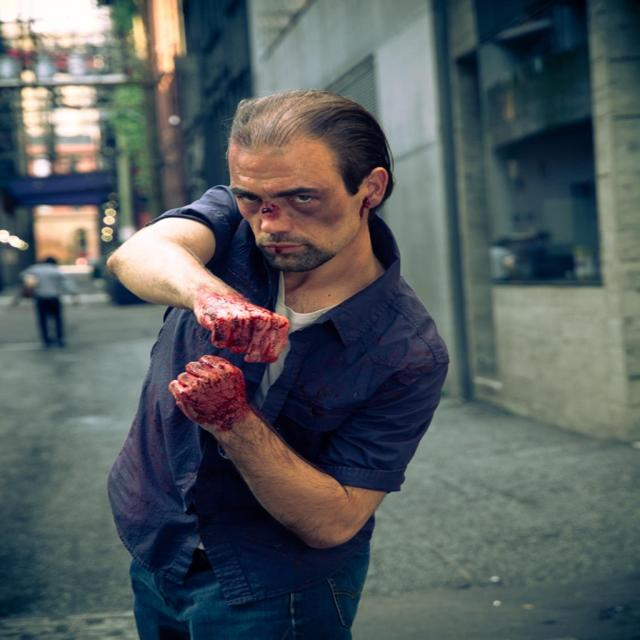Face: (218, 136, 367, 274)
